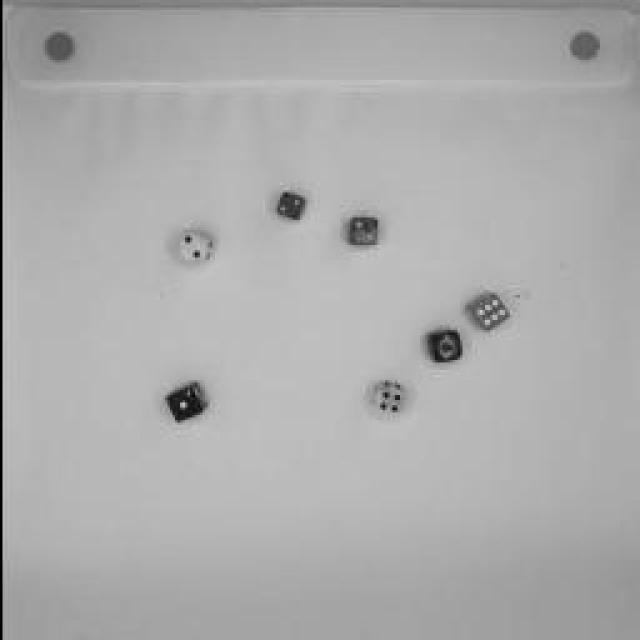dice_1: (165, 378, 205, 424), (426, 328, 464, 362)
dice_2: (172, 227, 212, 265), (342, 214, 378, 246), (275, 188, 305, 222)
dice_4: (370, 381, 405, 419)
dice_6: (462, 292, 508, 332)
